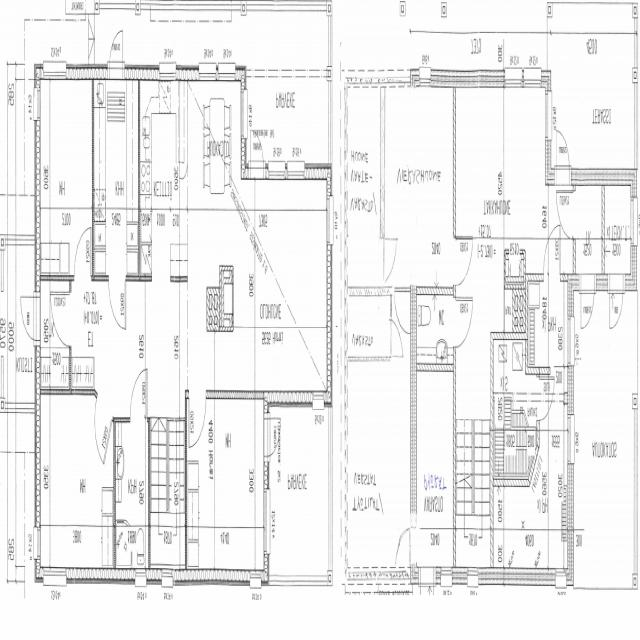door: (89, 393, 113, 464), (52, 294, 72, 345), (130, 368, 148, 423), (453, 298, 473, 347), (189, 391, 206, 446), (380, 238, 400, 284), (109, 275, 126, 329), (453, 238, 472, 286), (74, 228, 91, 281), (544, 225, 560, 281), (557, 191, 576, 238), (20, 298, 40, 340), (394, 287, 410, 339), (537, 377, 555, 421), (420, 568, 434, 624), (610, 274, 624, 329), (556, 132, 570, 186), (250, 125, 264, 179), (398, 526, 417, 564), (264, 418, 283, 456), (581, 274, 594, 328), (110, 28, 122, 80), (390, 319, 406, 356)
